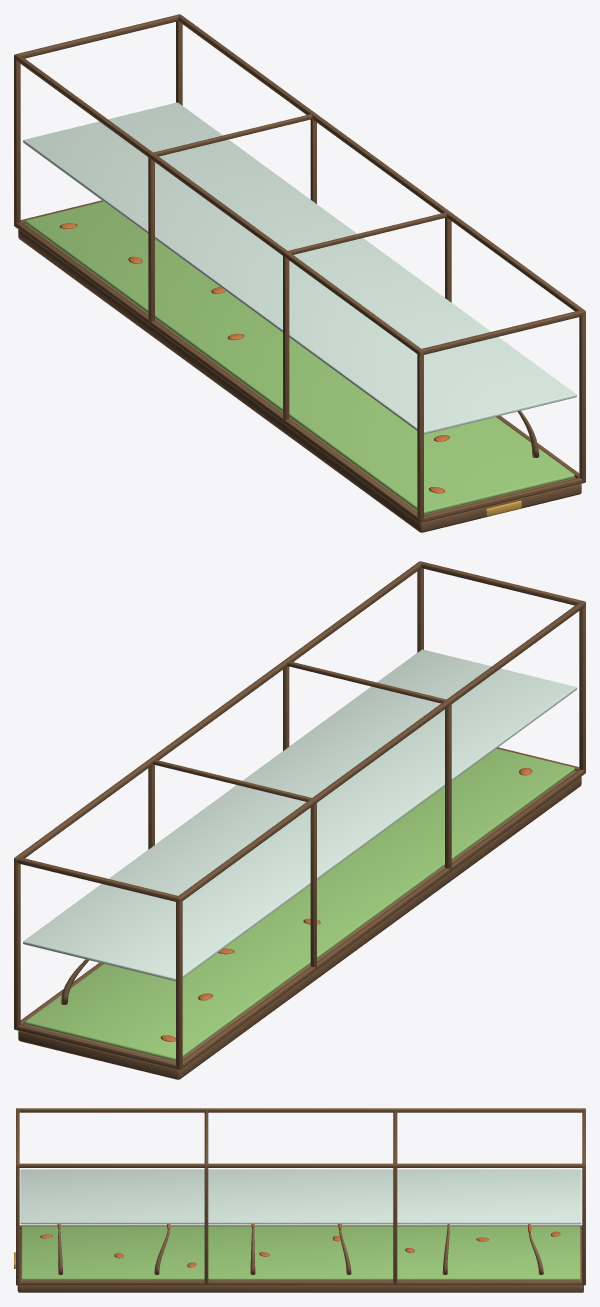
File: long-terrarium.glb
3 views of the same model, one above another, from view 1: azimuth 30°, elevation 25°; view 2: azimuth 150°, elevation 25°; view 3: azimuth 270°, elevation 25° (orthographic). The views are drawn at different scales.
Parts seen in each view (by area): view 1: ground, frame, deco; view 2: ground, frame, deco; view 3: ground, frame, deco.
Boxes of the visible parts, x1,y1,x2,y2 form: ground: (23, 102, 576, 515); frame: (14, 14, 585, 532); deco: (59, 223, 539, 493); ground: (23, 649, 576, 1062); frame: (14, 561, 585, 1079); deco: (60, 768, 532, 1041); ground: (20, 1169, 581, 1280); frame: (14, 1108, 585, 1292); deco: (40, 1224, 560, 1274).
Bounding box in the file's own units: 1.42 × 1.5 × 6.01.
